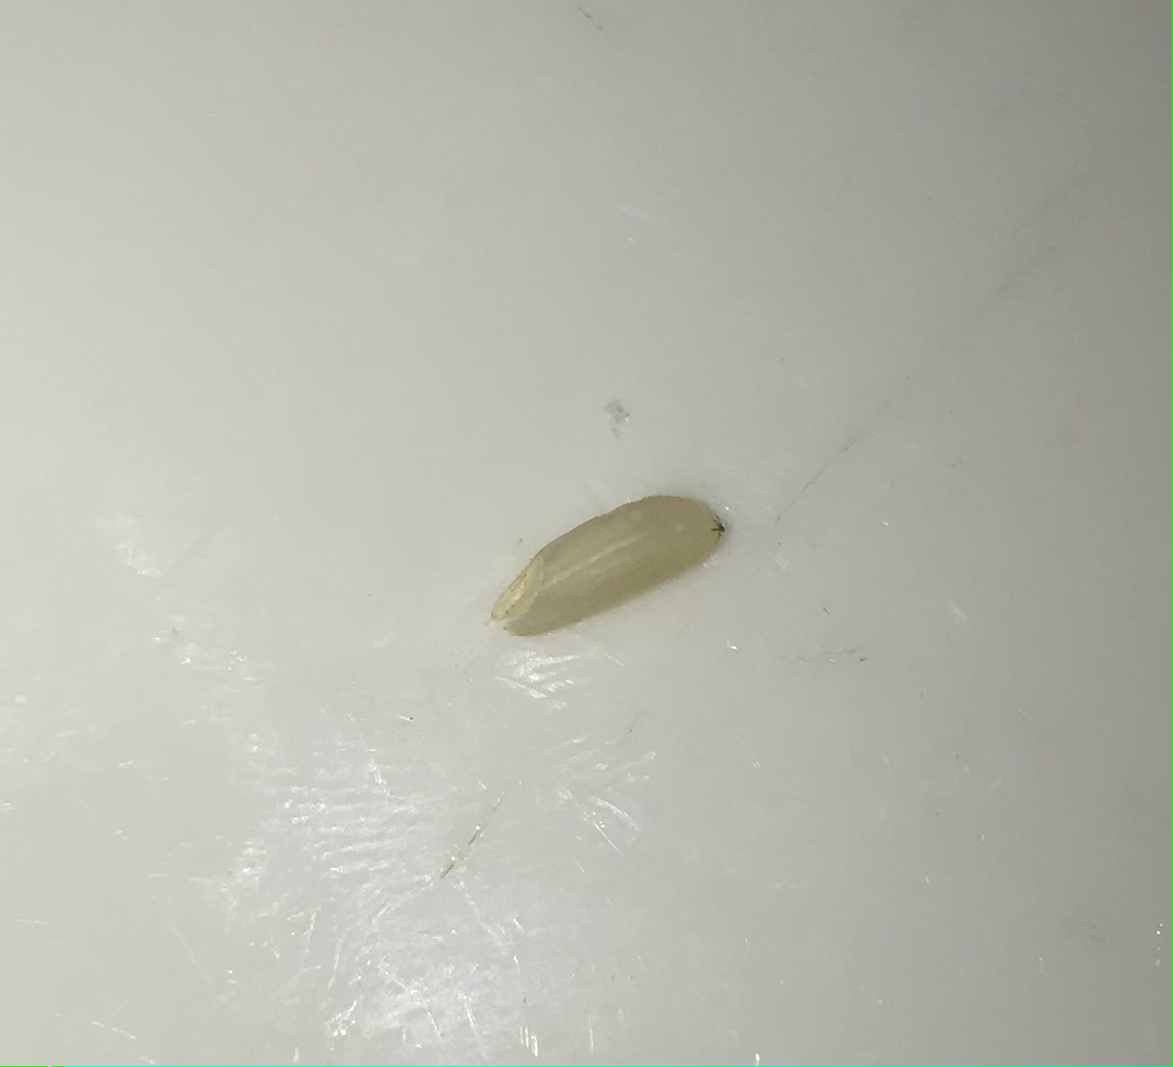Gao Lut Trang: (483, 477, 747, 678)
